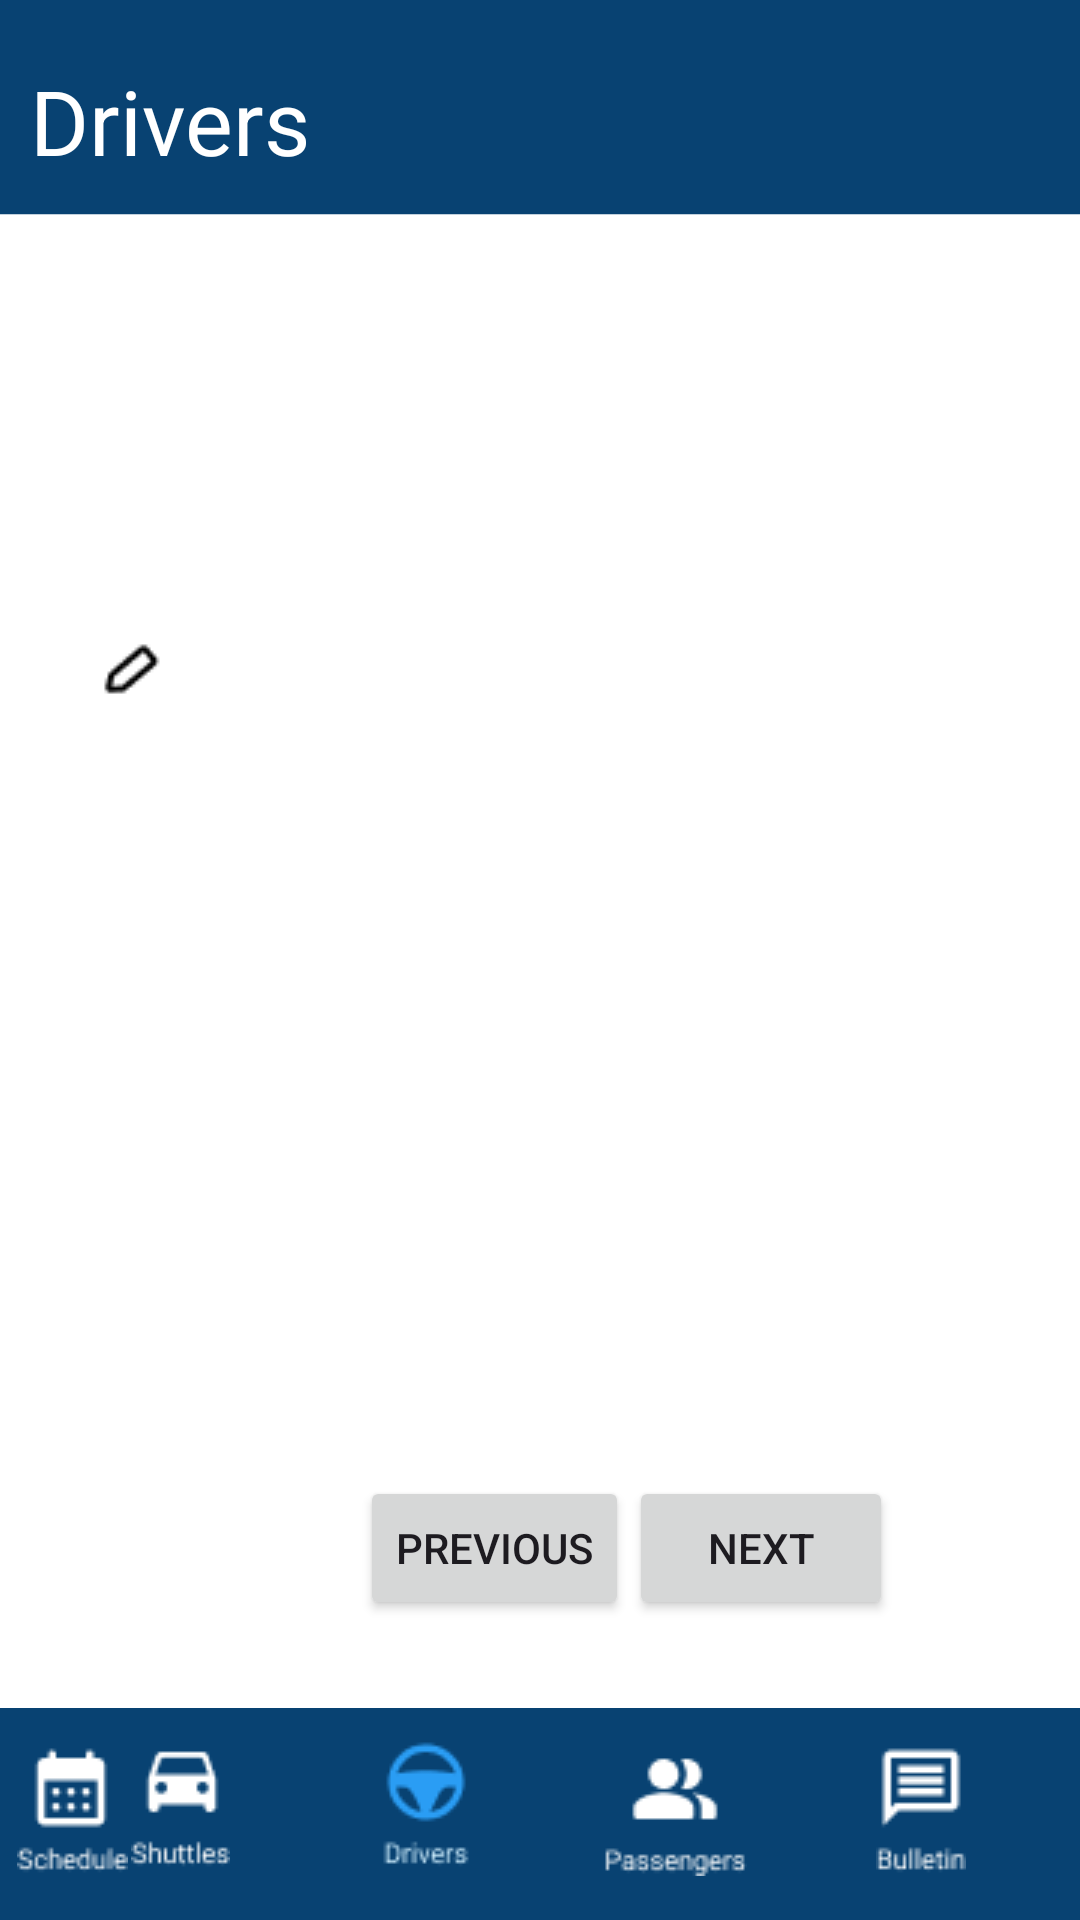

Screen size 1080×1920. Icon name, then its center in pixels as (x=x, y=y):
edit3: (x=132, y=669)
